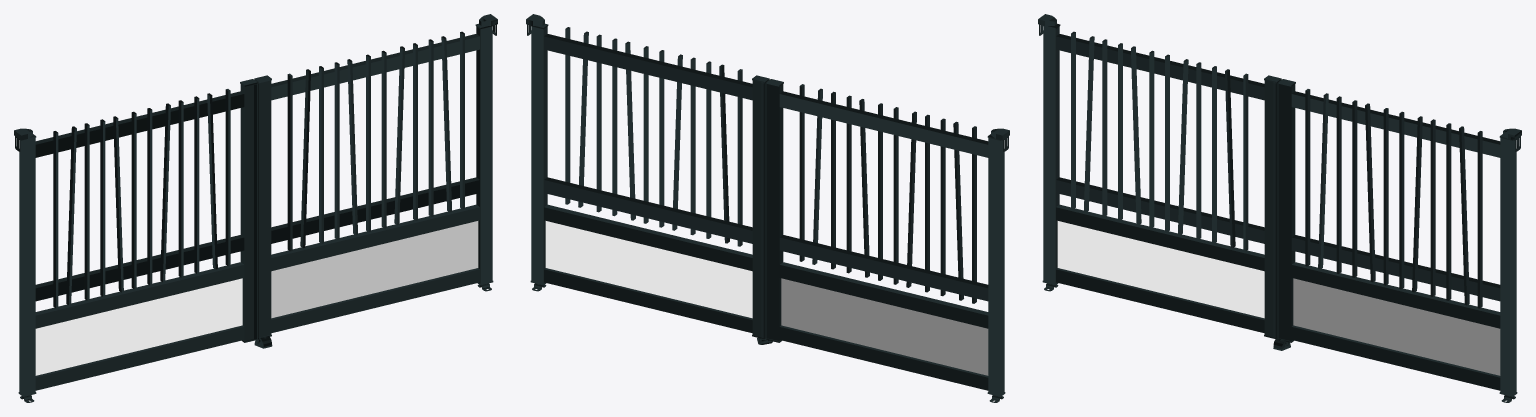
3 renders of one model, left to right at view 1: azimuth 30°, elevation 25°; view 2: azimuth 150°, elevation 25°; view 3: azimuth 330°, elevation 25°, orthographic.
Parts seen in each view (by area): view 1: folha2, folha1, priximbattable_net_portail_aluminium_battant_85102_portail_k; view 2: folha1, folha2, priximbattable_net_portail_aluminium_battant_85102_portail_k; view 3: folha2, folha1, priximbattable_net_portail_aluminium_battant_85102_portail_k.
Part boxes in pixels (box(x1,y1,x2,y2)): folha2: box(254, 23, 493, 339); folha1: box(18, 79, 257, 396); priximbattable_net_portail_aluminium_battant_85102_portail_k: box(14, 14, 497, 402); folha1: box(761, 79, 1005, 396); folha2: box(530, 23, 769, 339); priximbattable_net_portail_aluminium_battant_85102_portail_k: box(526, 14, 1009, 402); folha2: box(1273, 79, 1517, 396); folha1: box(1042, 23, 1281, 338); priximbattable_net_portail_aluminium_battant_85102_portail_k: box(1038, 14, 1521, 402).
Size of the model in its own units: 304 by 164 by 12.81.
1 material, 1 textured.
